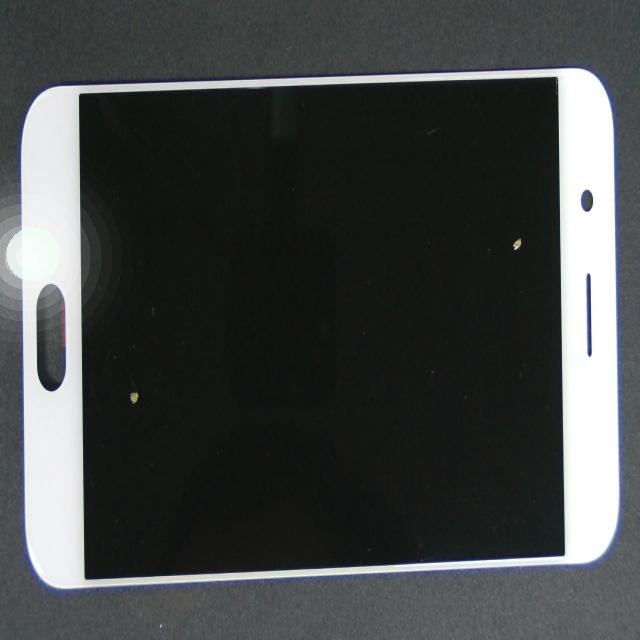stain: (276, 80, 640, 335), (73, 153, 191, 566)
